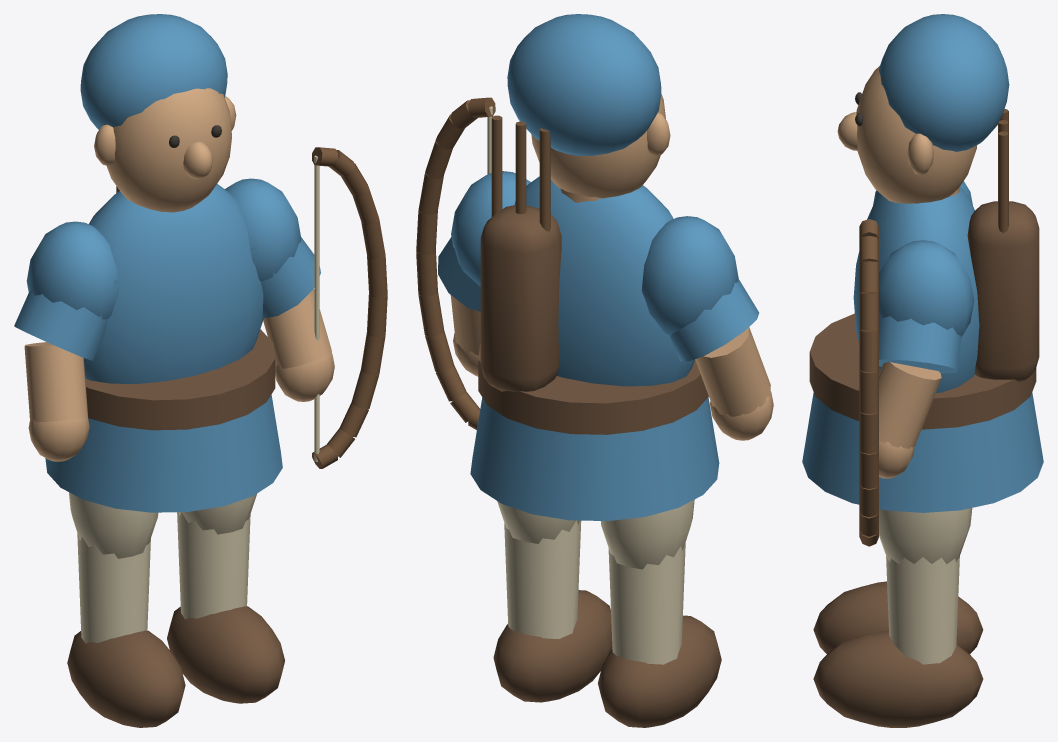
File: archer.glb
3 renders of one model, left to right at view 1: azimuth 30°, elevation 25°; view 2: azimuth 150°, elevation 25°; view 3: azimuth 270°, elevation 25°, orthographic. The views are drawn at different scales.
Parts seen in each view (by area): view 1: archer; view 2: archer; view 3: archer.
Boxes of the visible parts, <box> form: archer: <box>14,14,387,727</box>; archer: <box>416,14,773,727</box>; archer: <box>802,14,1043,727</box>.
Size of the model in its own units: 0.903 by 1.67 by 0.54.
